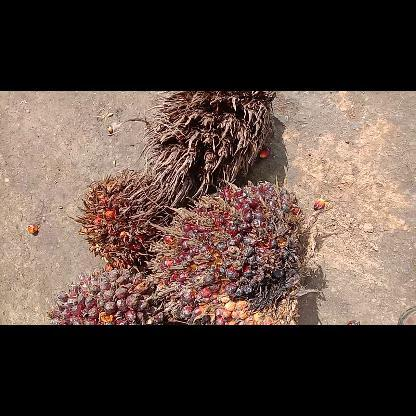Janjang kosong: (136, 90, 278, 206)
Kurang masak: (44, 266, 166, 324)
TBS masak: (144, 176, 324, 324)
Terlalu masak: (70, 170, 172, 270)
